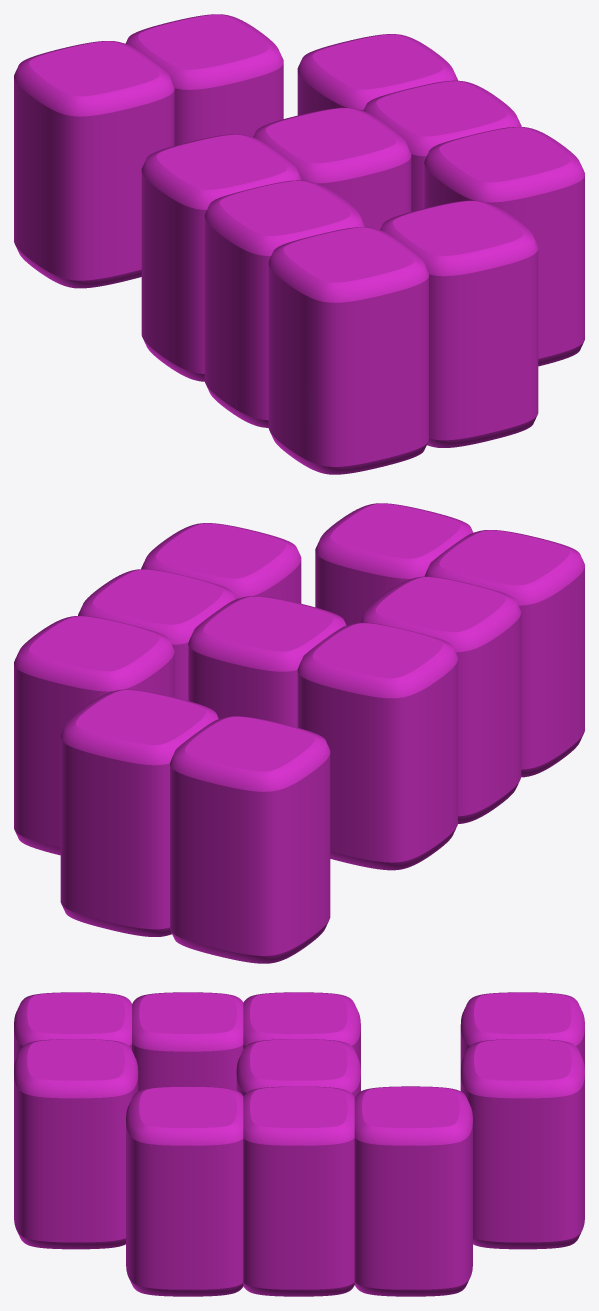
Rendered from Letter_e_Small.fbx.
3 views of the same model, one above another, from view 1: azimuth 30°, elevation 25°; view 2: azimuth 150°, elevation 25°; view 3: azimuth 270°, elevation 25° (orthographic). The views are drawn at different scales.
Parts seen in each view (by area): view 1: Letter_e; view 2: Letter_e; view 3: Letter_e.
Boxes of the visible parts, x1,y1,x2,y2 form: Letter_e: (14,14,584,474); Letter_e: (14,503,584,963); Letter_e: (14,992,584,1296).
Bounding box in the file's own units: 0.2619 × 0.14 × 0.4311.
